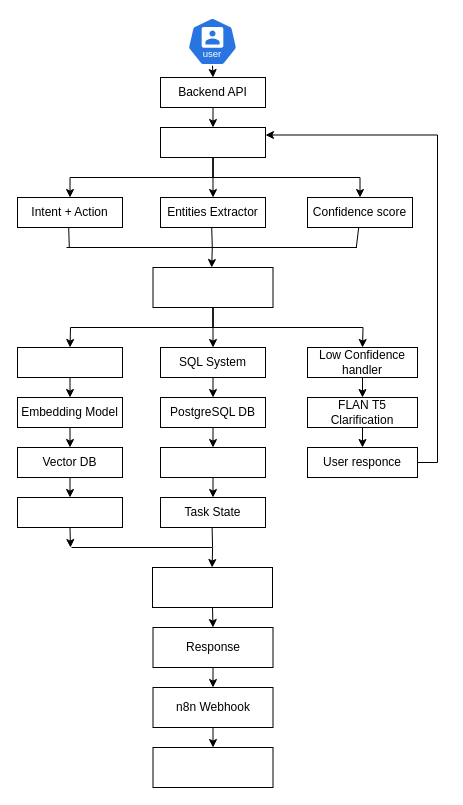
This 463x805 diagram has some shape labels left out. Each missing label, with the centre of its shape:
CRUD Ops: (213,462)
FLAN T5 Generator: (212,587)
Google Calendar: (212,767)
NLU Model: (213,142)
RAG Context: (69,362)
Router Logic: (212,287)
Top-K Docs: (69,512)
